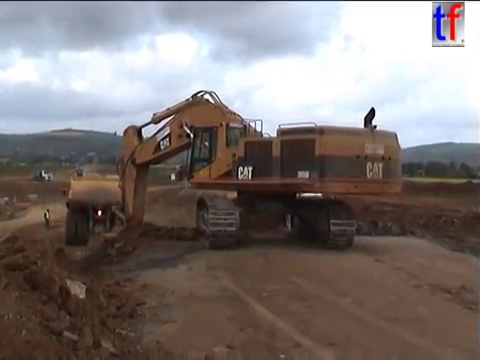excavator: (90, 87, 404, 266)
truck: (61, 173, 138, 247), (170, 163, 199, 185), (31, 169, 53, 182)
worker: (42, 207, 53, 229)
